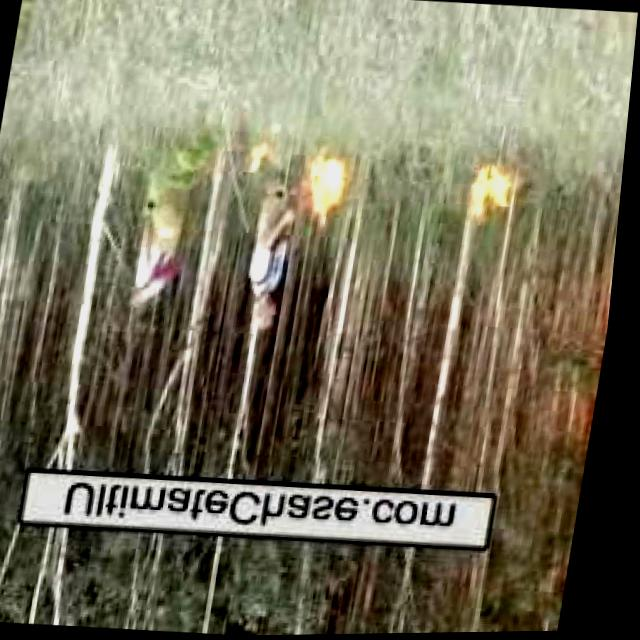helmet: (467, 163, 525, 230), (309, 148, 352, 229), (244, 135, 275, 179)
